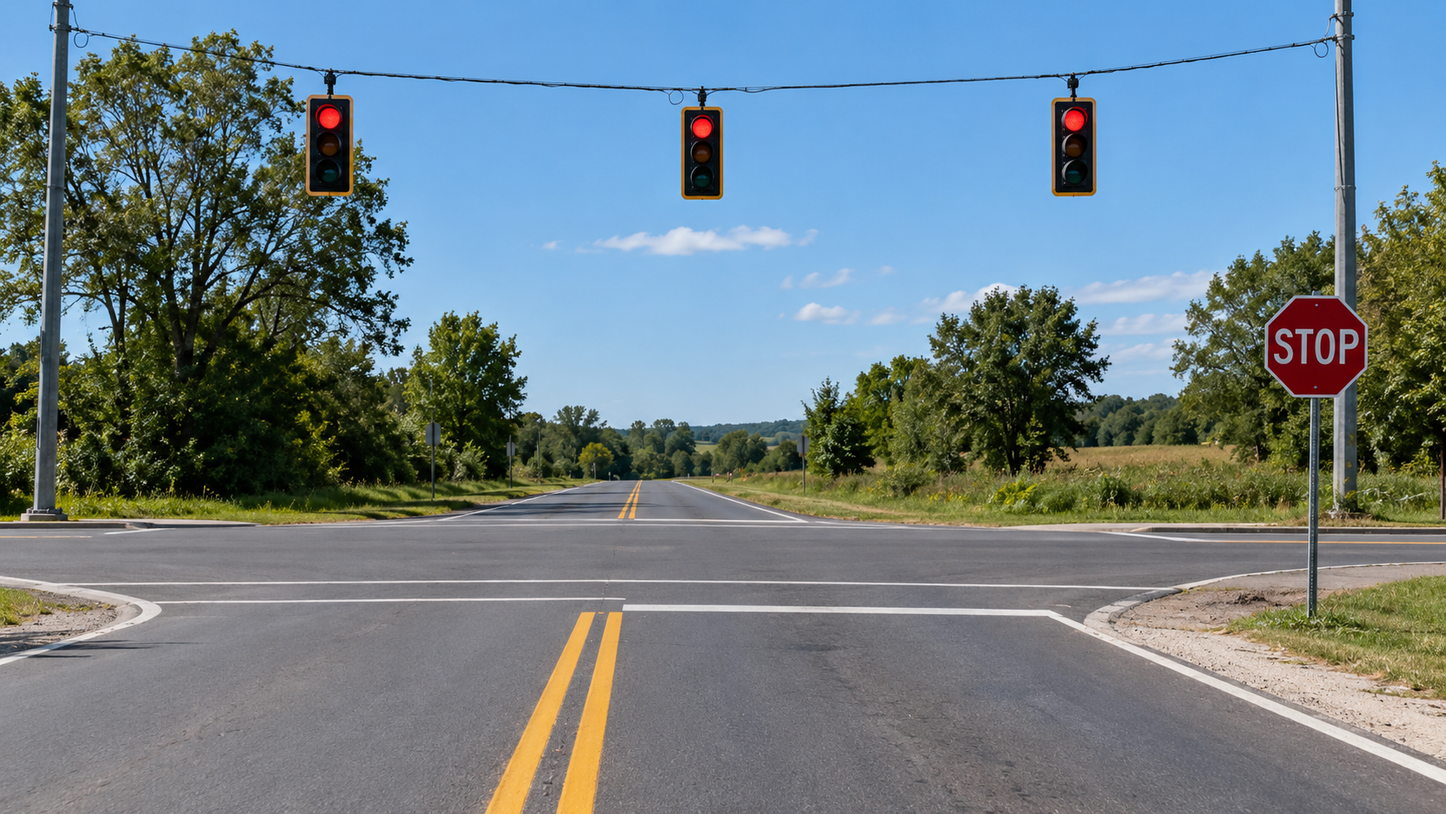stop_sign: (1265, 295, 1366, 399)
traffic_light: (305, 96, 352, 192), (1050, 97, 1097, 192), (680, 105, 726, 200)
